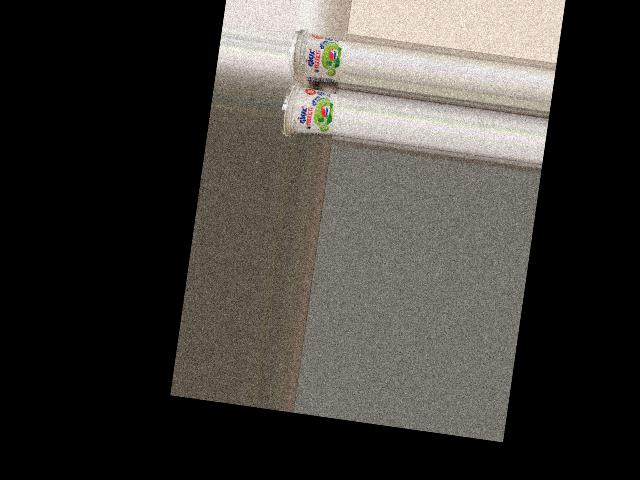cotage: (280, 81, 340, 138)
